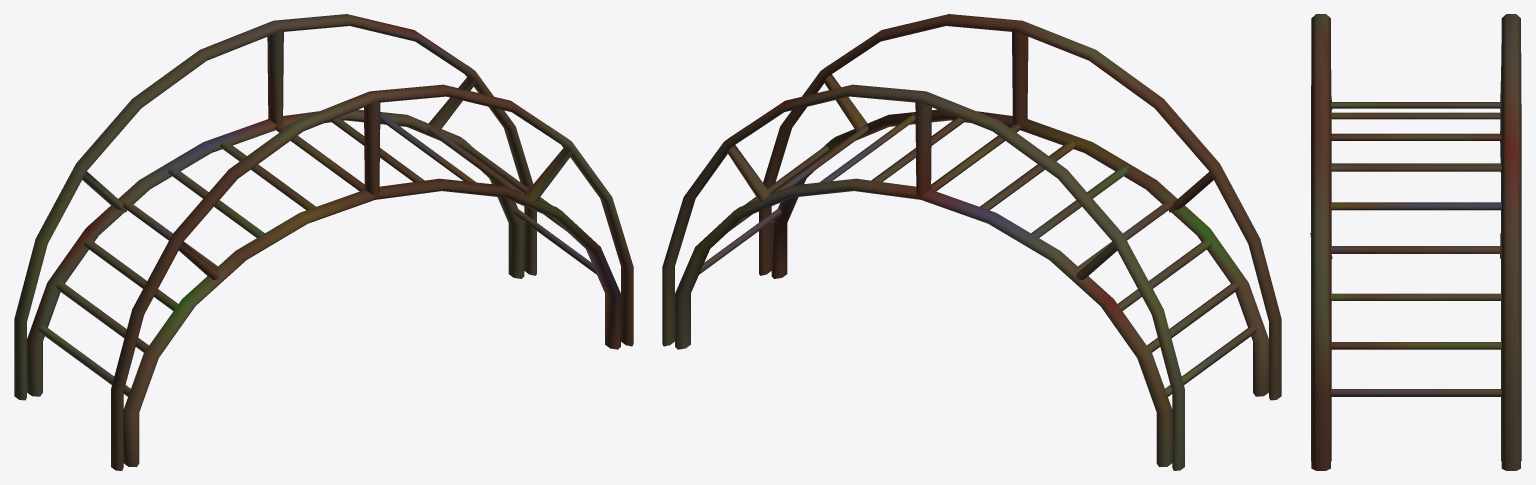
File: Lazalka.fbx
The picture shows the model from 3 angles, left to right: view 1: azimuth 30°, elevation 25°; view 2: azimuth 150°, elevation 25°; view 3: azimuth 270°, elevation 25°; orthographic projection.
Visible parts, largest first — view 1: Lazalka; view 2: Lazalka; view 3: Lazalka.
Boxes of the visible parts, bbox=[...] form: Lazalka: bbox=[14, 14, 633, 470]; Lazalka: bbox=[662, 14, 1281, 470]; Lazalka: bbox=[1310, 14, 1521, 470].
Size of the model in its own units: 984 by 568 by 353.
